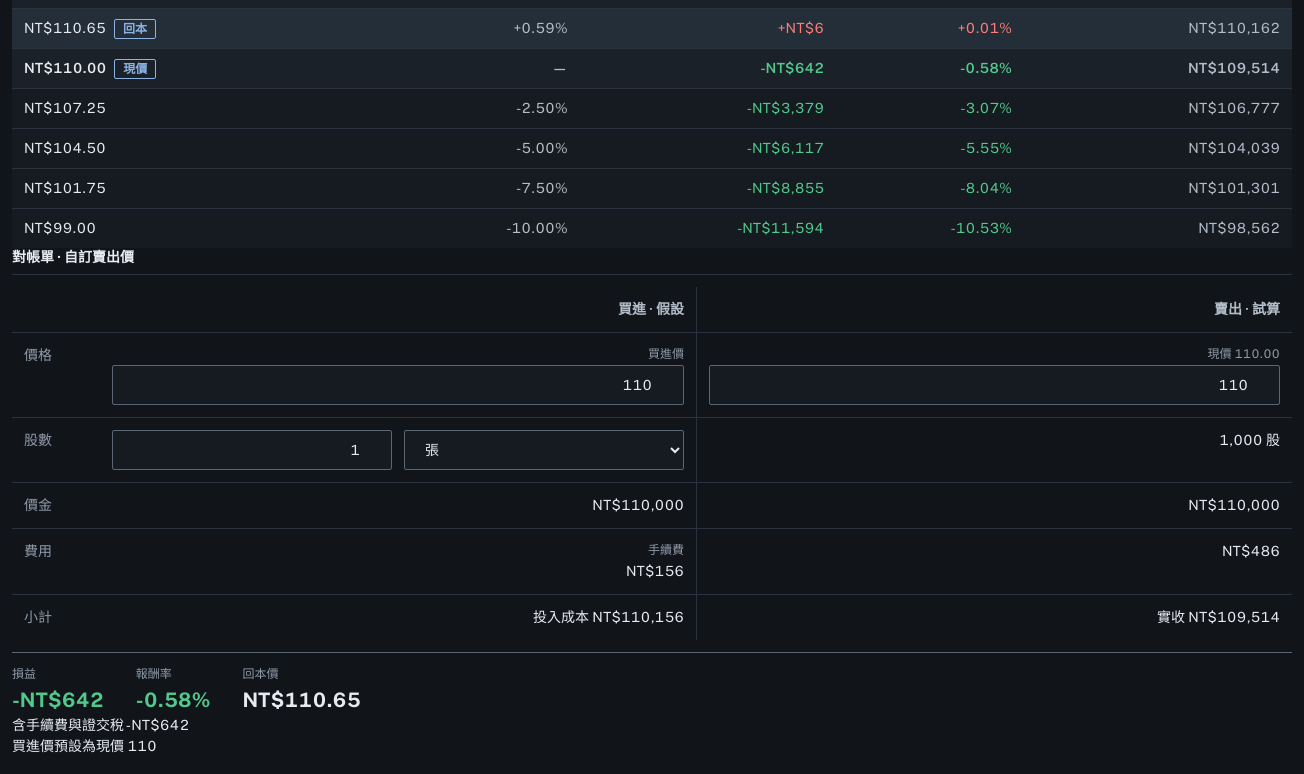
WhatIfTab 畫面結構：階梯在上、對帳單在下 › 點階梯任一列就把那個價格帶進賣出價，階梯本身不跟著跑
(page scrolled)
Replace the text in the number field named "買進價格" with "100" at (398, 385), box [112,365,684,405]
(page scrolled)
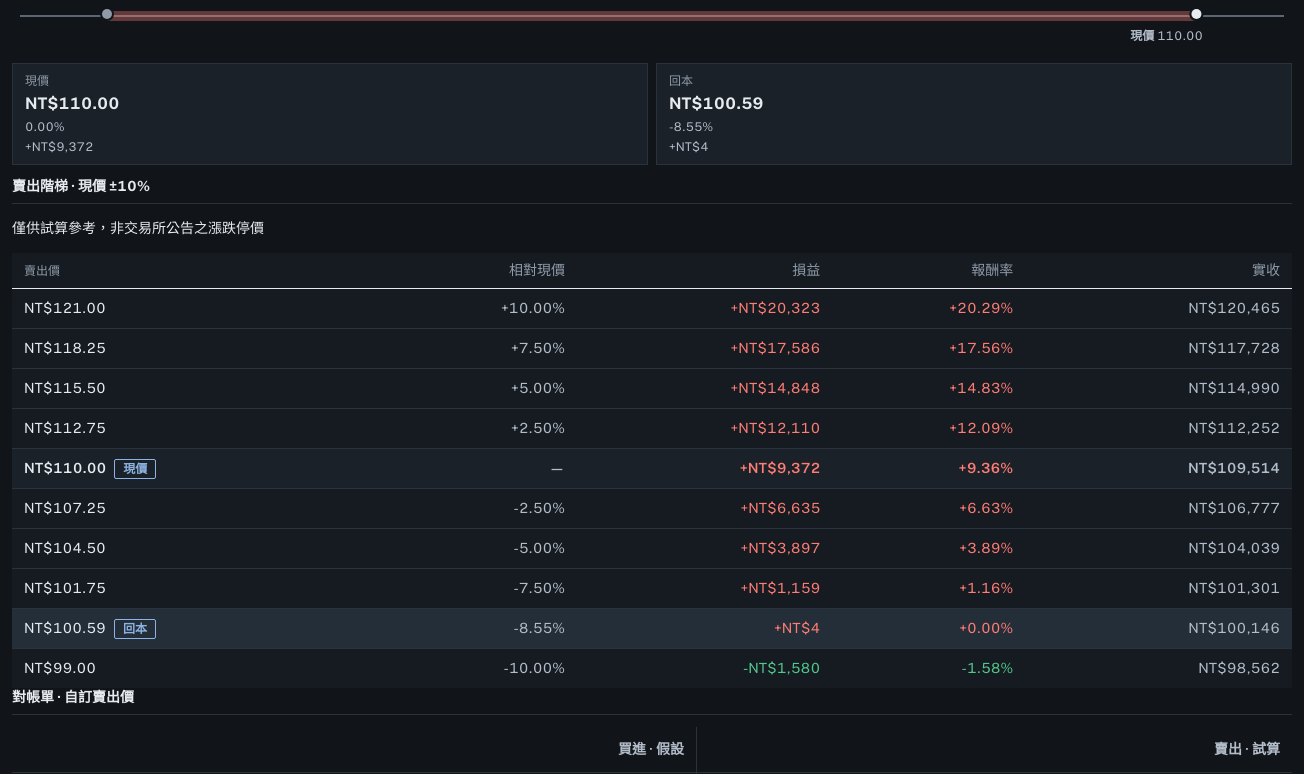
Click the button with test id "whatif-ladder-row" that starts with "NT$121.00" at (652, 308), box [12,288,1292,328]
(page scrolled)
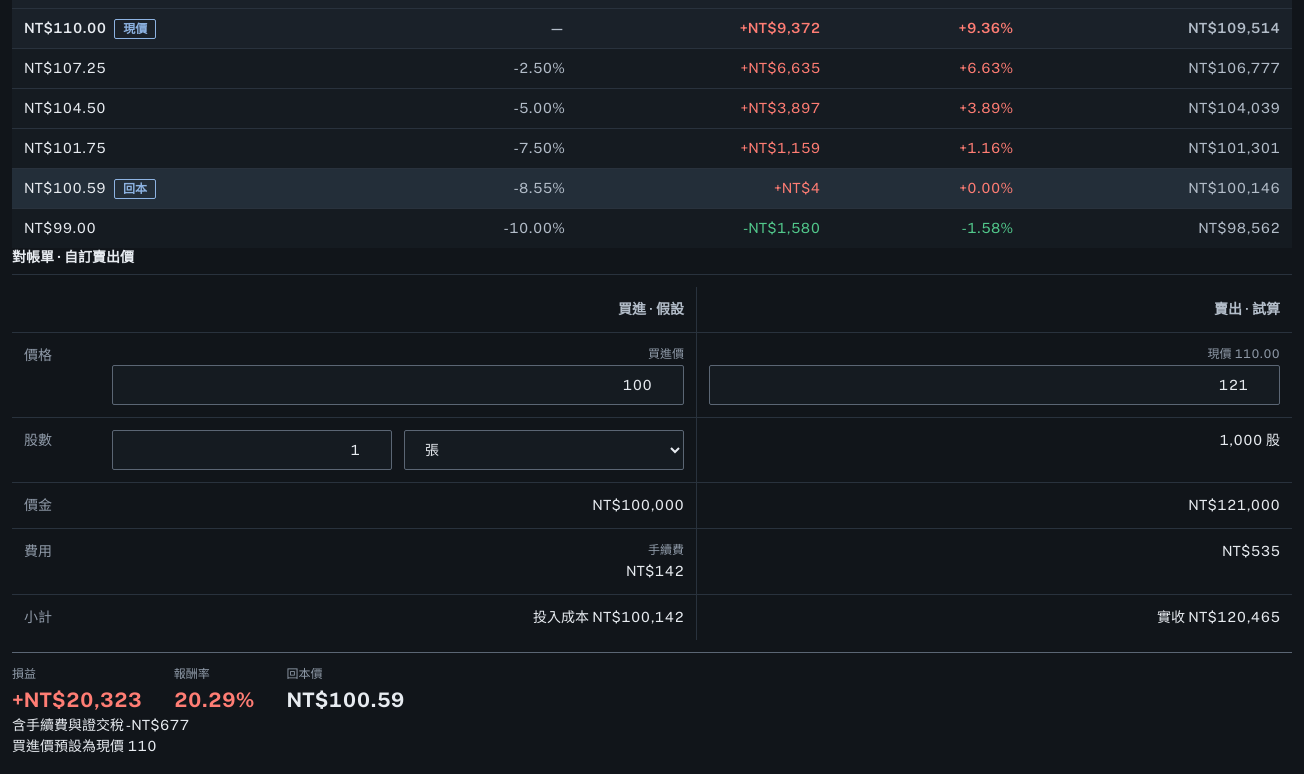
Result: the number field named "賣出價格" holds "121" at [709,365,1280,405]
